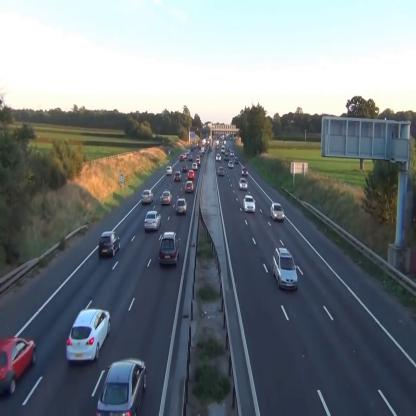car: (95, 357, 146, 416), (66, 310, 110, 361), (0, 338, 38, 395), (273, 248, 298, 290), (160, 232, 180, 267), (99, 230, 121, 256), (144, 211, 161, 232), (270, 202, 285, 220), (243, 194, 256, 212), (141, 189, 153, 204), (176, 199, 188, 214), (161, 190, 172, 206), (239, 178, 247, 190), (185, 182, 194, 192), (174, 172, 181, 182), (166, 165, 172, 175), (188, 170, 194, 180), (218, 166, 224, 176), (242, 167, 248, 175)
